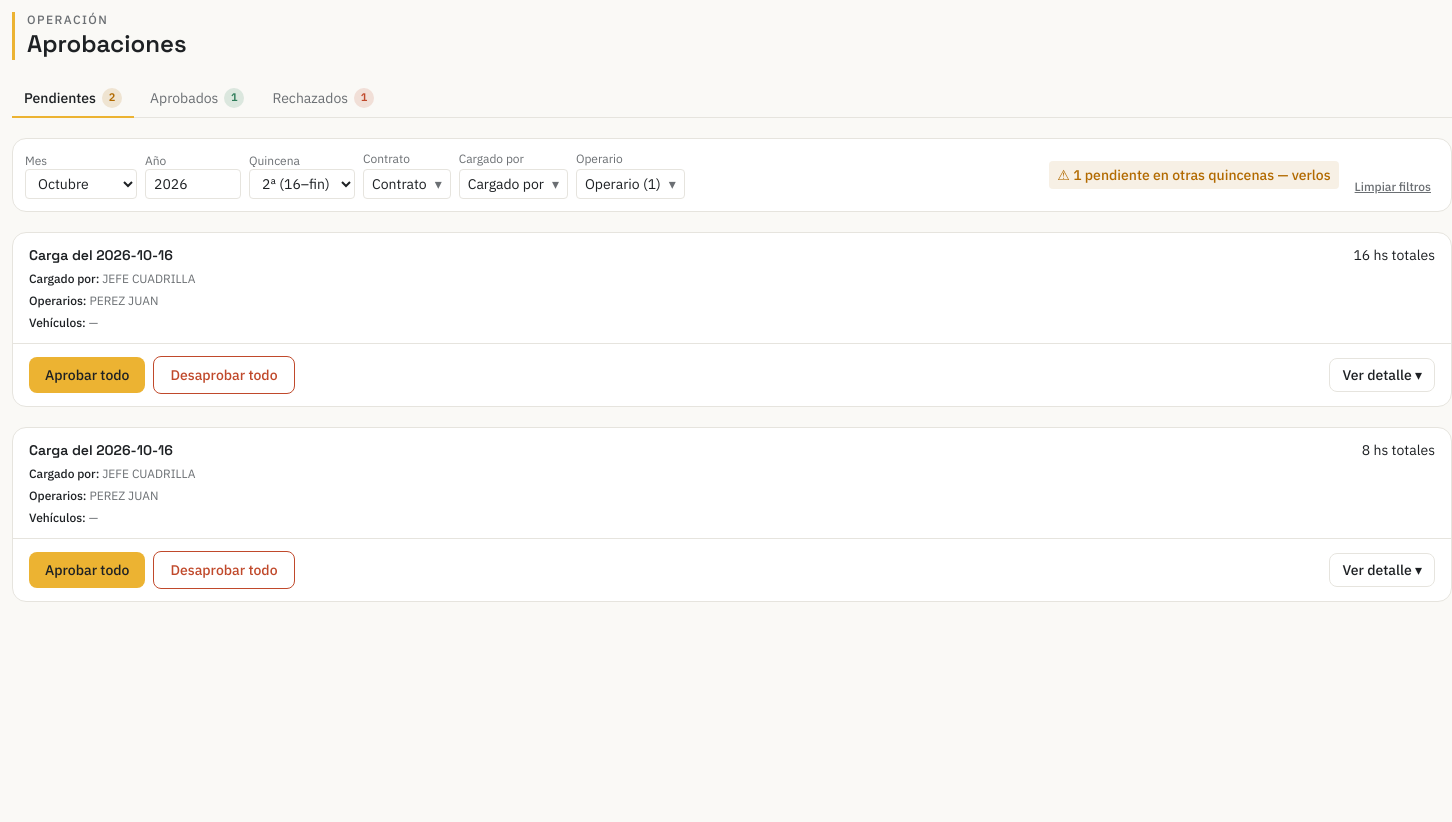
Test: AprobacionesPage › con operarioCuil en la URL, ese operario queda tildado en el desplegable
Click the button with aria-label "Filtrar por operario" at (630, 184), box [576,169,685,199]
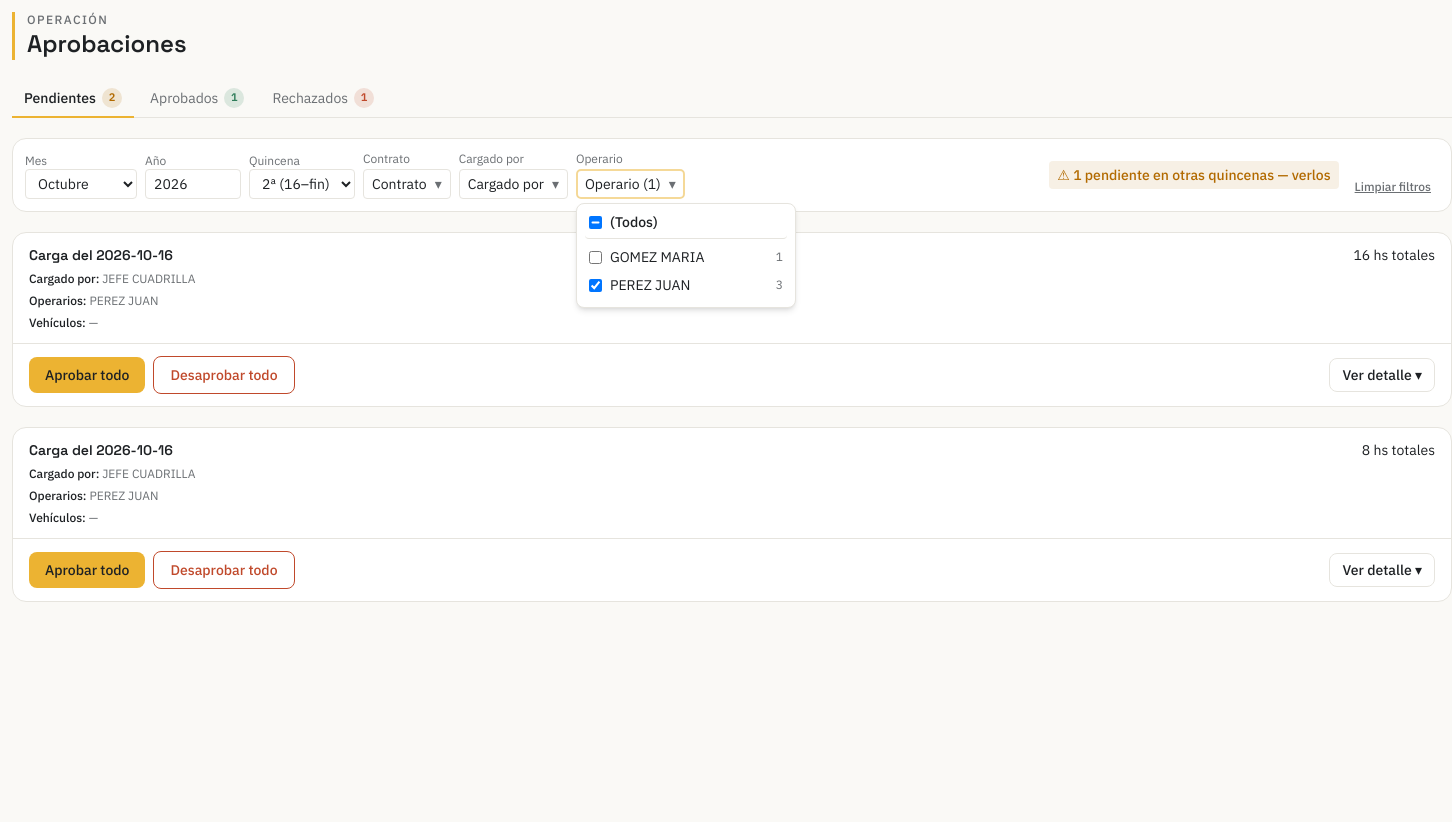
Expected: the checkbox labelled "PEREZ JUAN" is checked, [589,278,602,292]
